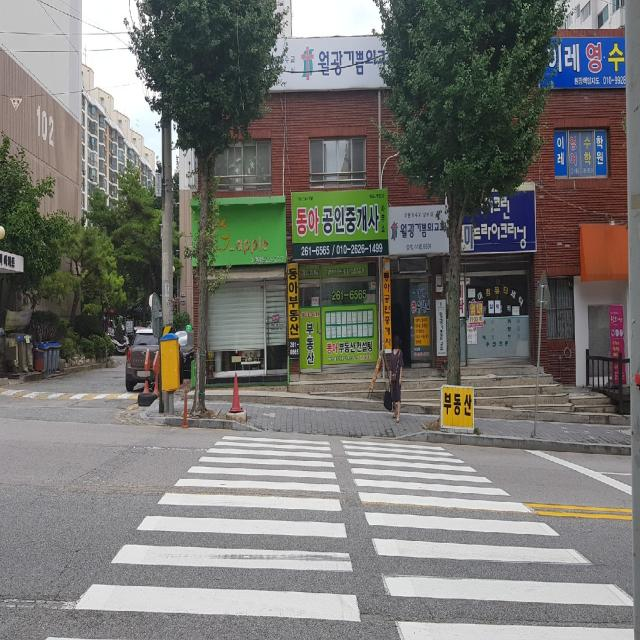횡단보도: (44, 435, 635, 640)
